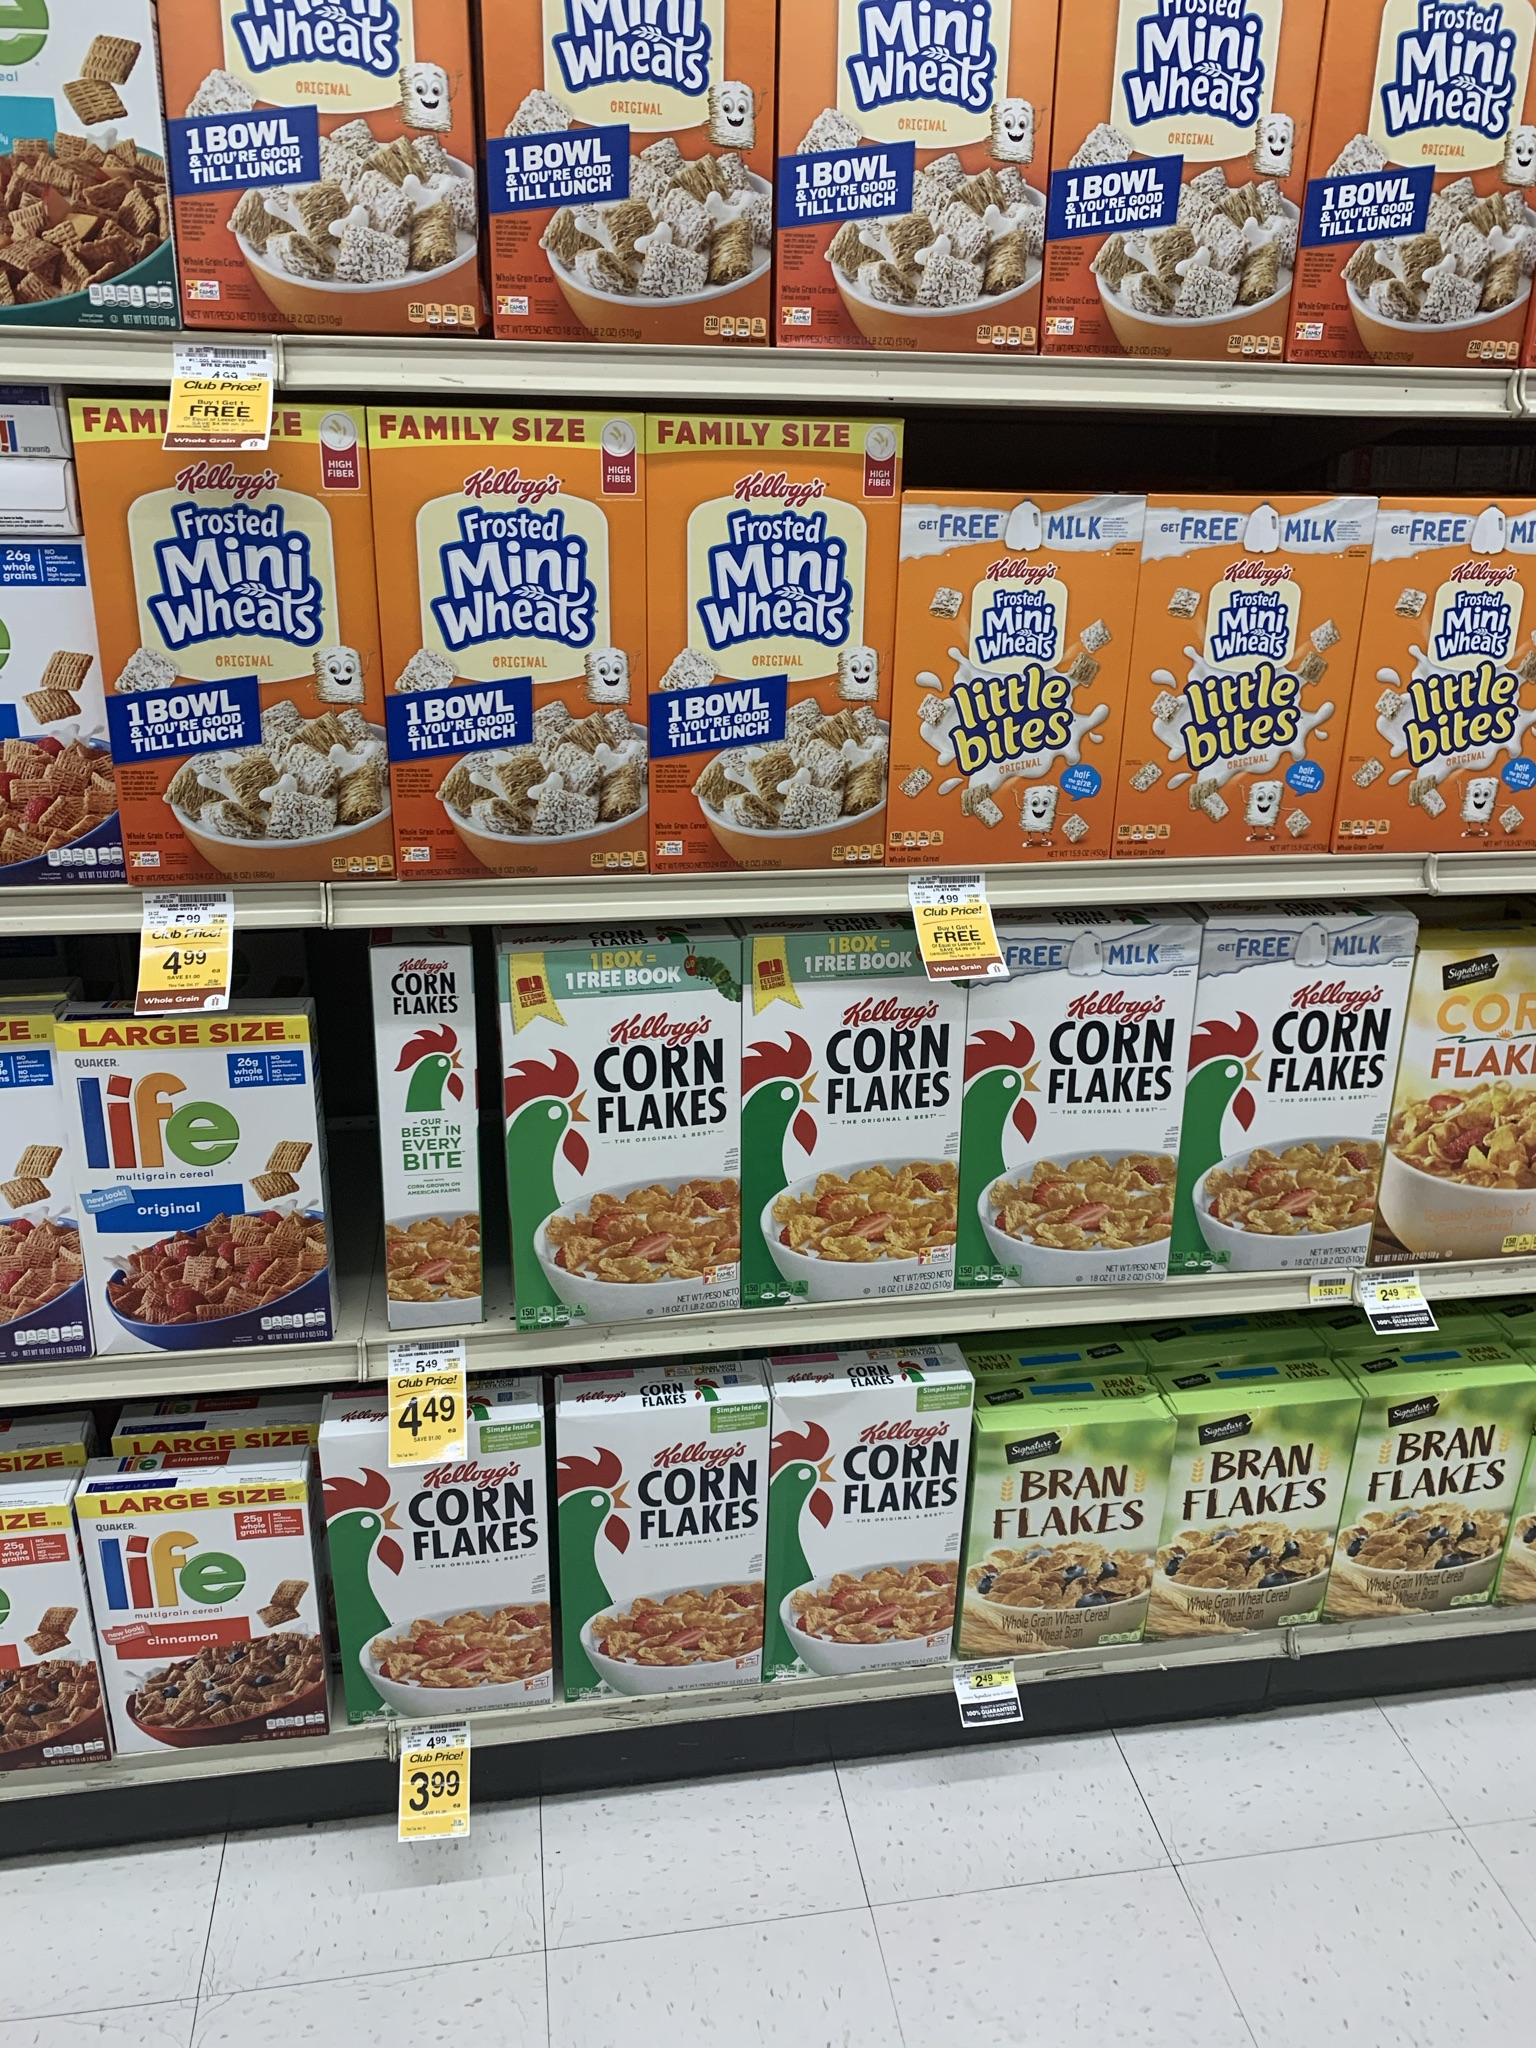cereal: (63, 390, 390, 898), (374, 393, 652, 874), (645, 410, 895, 871), (161, 3, 486, 340), (494, 10, 779, 347), (499, 942, 749, 1326), (791, 3, 1046, 364), (899, 476, 1128, 855), (1066, 6, 1300, 373), (65, 1026, 331, 1340), (737, 932, 966, 1293), (1144, 498, 1354, 860), (1339, 6, 1533, 389), (971, 934, 1175, 1287), (311, 1432, 557, 1721), (82, 1487, 329, 1755), (1371, 497, 1536, 872), (1200, 926, 1376, 1271), (766, 1376, 963, 1666), (552, 1406, 758, 1679), (970, 1419, 1150, 1674), (1183, 1397, 1338, 1650), (1362, 1385, 1517, 1630), (1413, 955, 1536, 1256)
